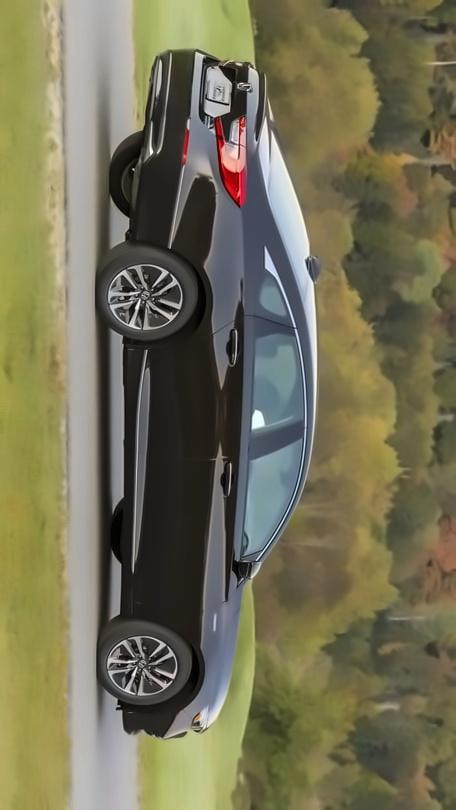Car boot: (197, 46, 270, 155)
Driver-s door - -F-R-: (144, 445, 316, 554)
Fender - -F-R-: (117, 585, 273, 682)
Fender - -R-R-: (120, 214, 260, 360)
Front bumper: (119, 697, 188, 751)
Headlight - -R-: (190, 697, 220, 738)
Passenger-s door - -R-R-: (139, 312, 322, 446)
Rear bumper: (119, 37, 227, 250)
Rear light - -R-: (210, 106, 254, 208)
Side bumper - -R-: (116, 333, 151, 630)
Side mirror - -R-: (225, 546, 270, 586)
